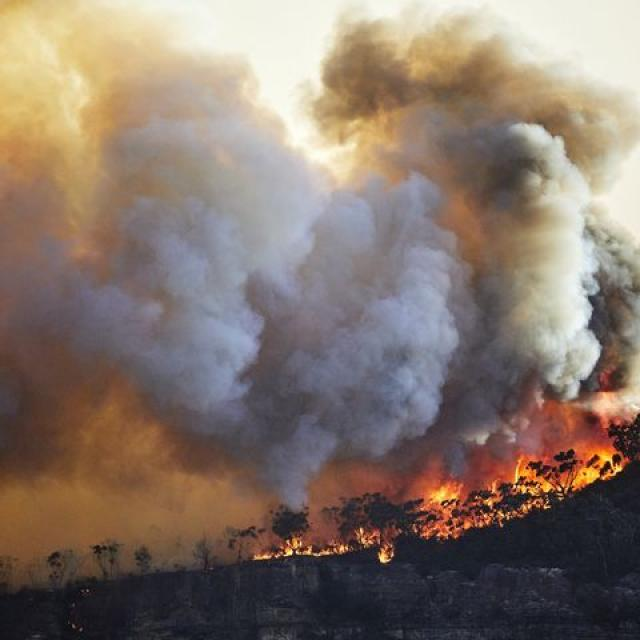Fire: (450, 433, 640, 547), (252, 476, 453, 570)
Smoke: (0, 0, 245, 343), (456, 25, 636, 436), (0, 346, 248, 590), (250, 218, 450, 472), (249, 0, 452, 215)
